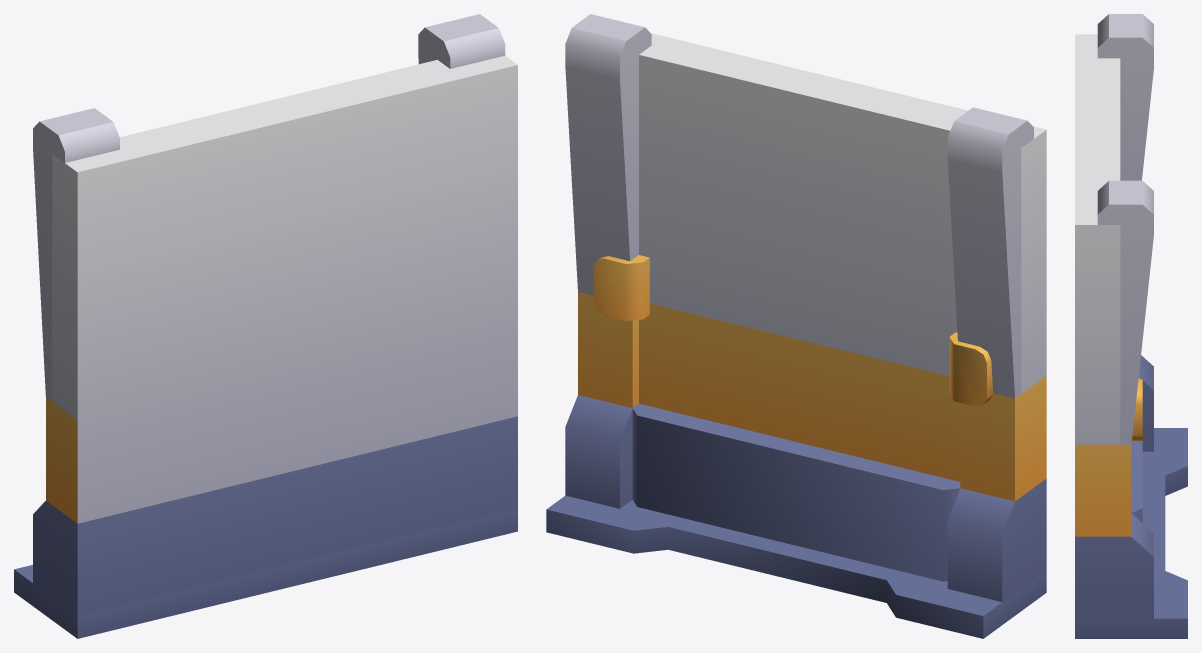
Rendered from kenney-space-template-wall.glb.
3 renders of one model, left to right at view 1: azimuth 30°, elevation 25°; view 2: azimuth 150°, elevation 25°; view 3: azimuth 270°, elevation 25°, orthographic. The views are drawn at different scales.
Visible parts, largest first — view 1: template-wall; view 2: template-wall; view 3: template-wall.
Part boxes in pixels (<box>): template-wall: <box>14,14,517,638</box>; template-wall: <box>546,14,1046,638</box>; template-wall: <box>1075,14,1187,638</box>.
Bounding box in the file's own units: 3 × 3.19 × 0.7507.
1 material, 1 textured.
